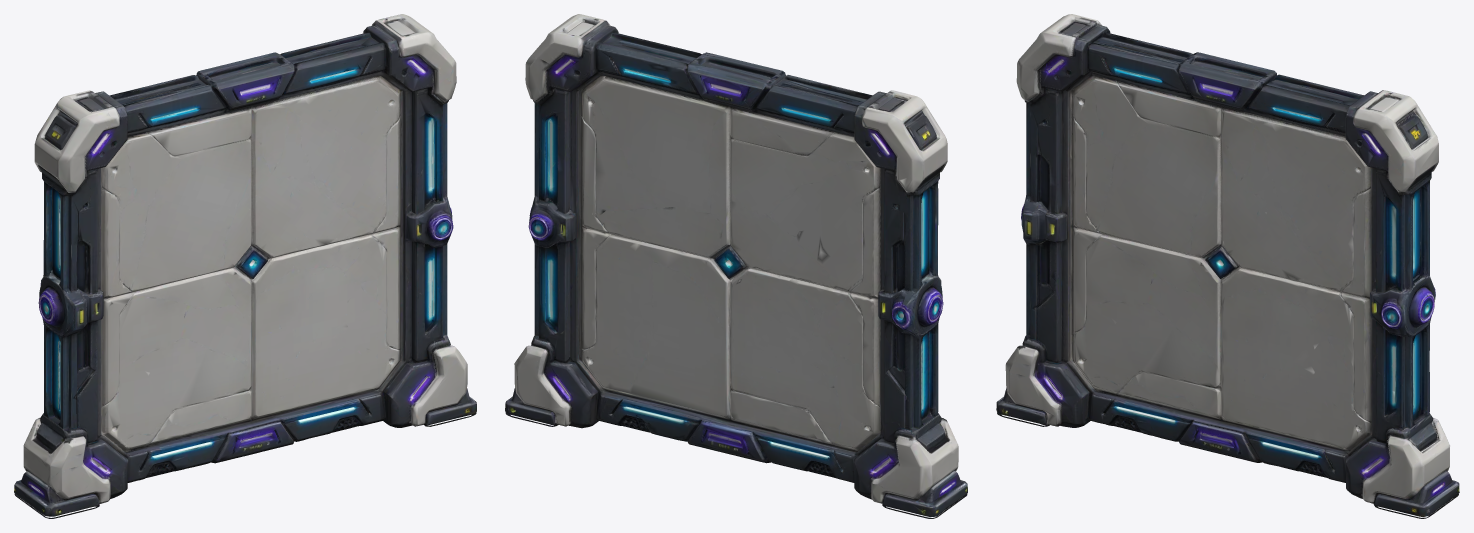
The model's file is model-16-phase-wall.glb.
3 renders of one model, left to right at view 1: azimuth 30°, elevation 25°; view 2: azimuth 150°, elevation 25°; view 3: azimuth 330°, elevation 25°, orthographic.
Parts seen in each view (by area): view 1: node_0; view 2: node_0; view 3: node_0.
Part boxes in pixels (bbox=[...]): node_0: bbox=[14, 14, 476, 518]; node_0: bbox=[505, 14, 967, 518]; node_0: bbox=[996, 14, 1459, 518].
Size of the model in its own units: 0.9082 by 0.7869 by 0.1313.
1 material, 1 textured.
